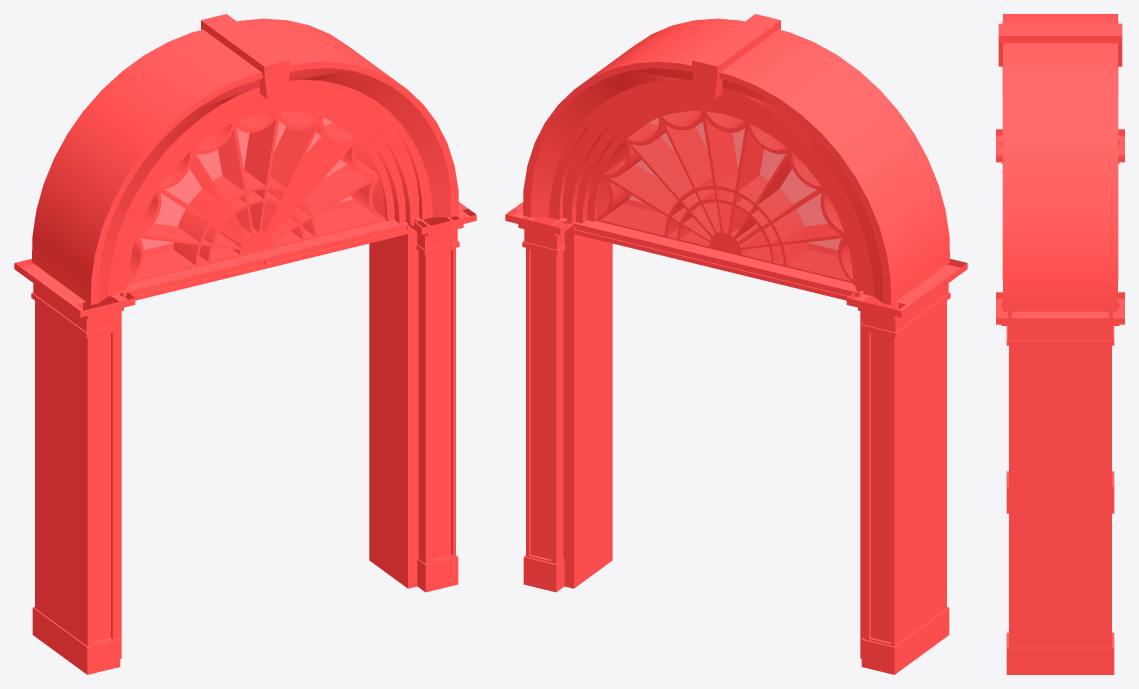
Rendered from arch_red.dae.
The picture shows the model from 3 angles, left to right: view 1: azimuth 30°, elevation 25°; view 2: azimuth 150°, elevation 25°; view 3: azimuth 270°, elevation 25°; orthographic projection. The views are drawn at different scales.
Visible parts, largest first — view 1: Component#1_003, Component#1_001, Component#1_007, Component#1_005; view 2: Component#1_007, Component#1_005, Component#1_003, Component#1_001; view 3: Component#1_001, Component#1_005, Component#1_003, Component#1_007.
Boxes of the visible parts, x1=… form: Component#1_003: x1=28, y1=29, x2=277, y2=674; Component#1_001: x1=237, y1=41, x2=476, y2=592; Component#1_007: x1=14, y1=17, x2=256, y2=668; Component#1_005: x1=214, y1=14, x2=462, y2=588; Component#1_007: x1=704, y1=29, x2=953, y2=674; Component#1_005: x1=505, y1=31, x2=744, y2=592; Component#1_003: x1=725, y1=17, x2=967, y2=668; Component#1_001: x1=519, y1=14, x2=767, y2=588; Component#1_001: x1=996, y1=29, x2=1098, y2=674; Component#1_005: x1=1030, y1=29, x2=1124, y2=674; Component#1_003: x1=996, y1=14, x2=1075, y2=513; Component#1_007: x1=1068, y1=14, x2=1124, y2=513.
Size of the model in its own units: 101 by 139 by 29.25.
